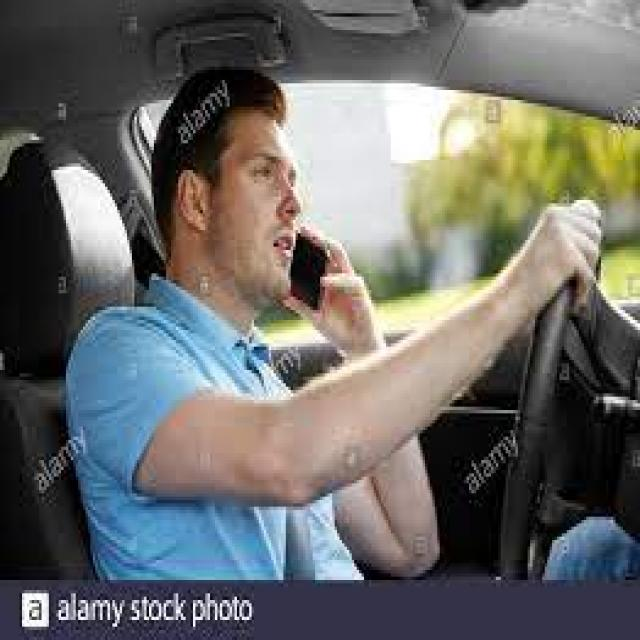Cellphone_calling: (249, 193, 374, 337)
